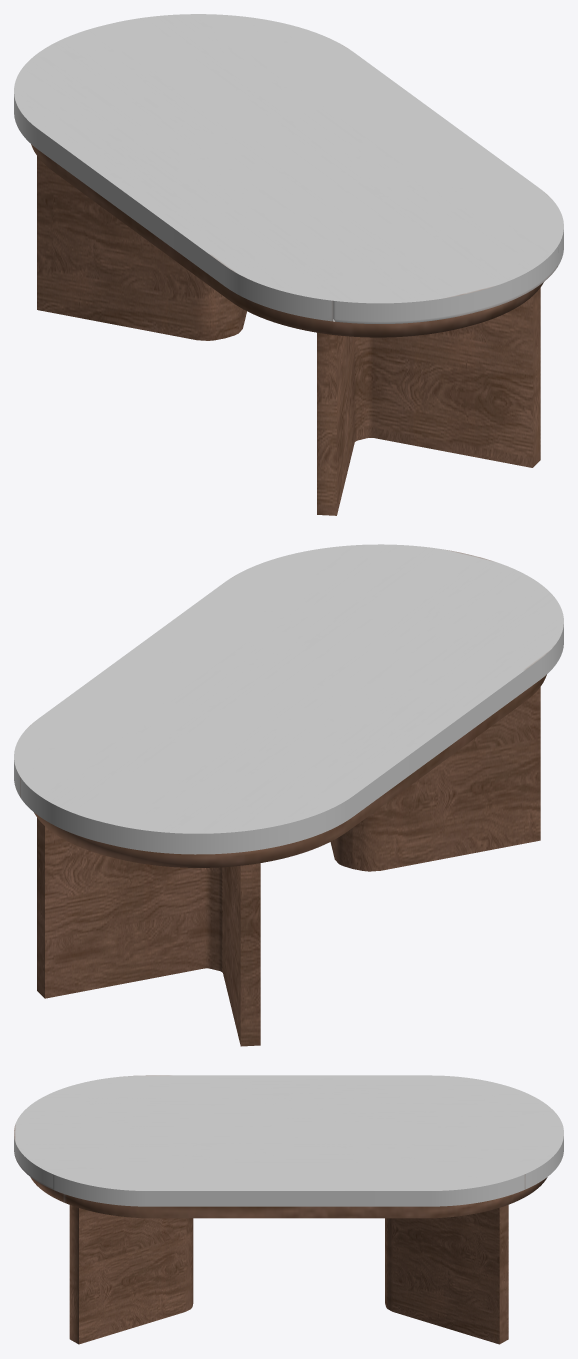
The model's file is Dinning_Table.fbx.
3 views of the same model, one above another, from view 1: azimuth 30°, elevation 25°; view 2: azimuth 150°, elevation 25°; view 3: azimuth 270°, elevation 25° (orthographic). The views are drawn at different scales.
Visible parts, largest first — view 1: Cube.002; view 2: Cube.002; view 3: Cube.002.
Part boxes in pixels (box(x1,y1,x2,y2)): Cube.002: box(14, 14, 563, 515); Cube.002: box(14, 544, 563, 1046); Cube.002: box(14, 1075, 563, 1344).
Size of the model in its own units: 101 by 69.64 by 204.
Materials: 1 (1 with a texture image).
